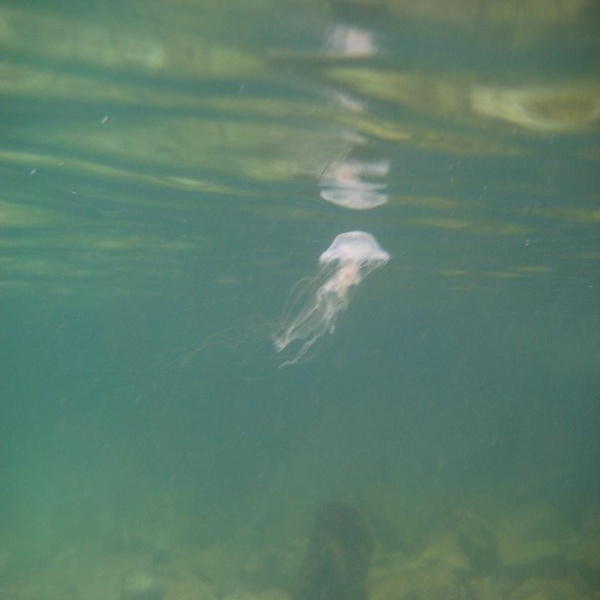Jellyfish: (272, 238, 387, 370)
